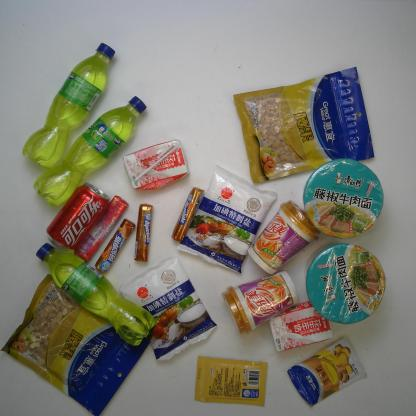Candy: (73, 194, 130, 262), (94, 218, 137, 275), (170, 186, 206, 243), (132, 202, 154, 263)
Dried Fruit: (0, 272, 151, 416), (232, 66, 376, 186)
Drink: (32, 94, 148, 209), (35, 242, 157, 349), (21, 41, 116, 172), (45, 181, 111, 254)
Instant Drink: (246, 198, 320, 277), (220, 268, 301, 336)
Instant Noodles: (303, 241, 387, 325), (303, 157, 384, 241)
Milk: (121, 138, 191, 192), (269, 301, 334, 354)
Seasoner: (175, 163, 278, 275), (118, 254, 218, 364), (286, 336, 367, 408), (194, 356, 268, 408)
